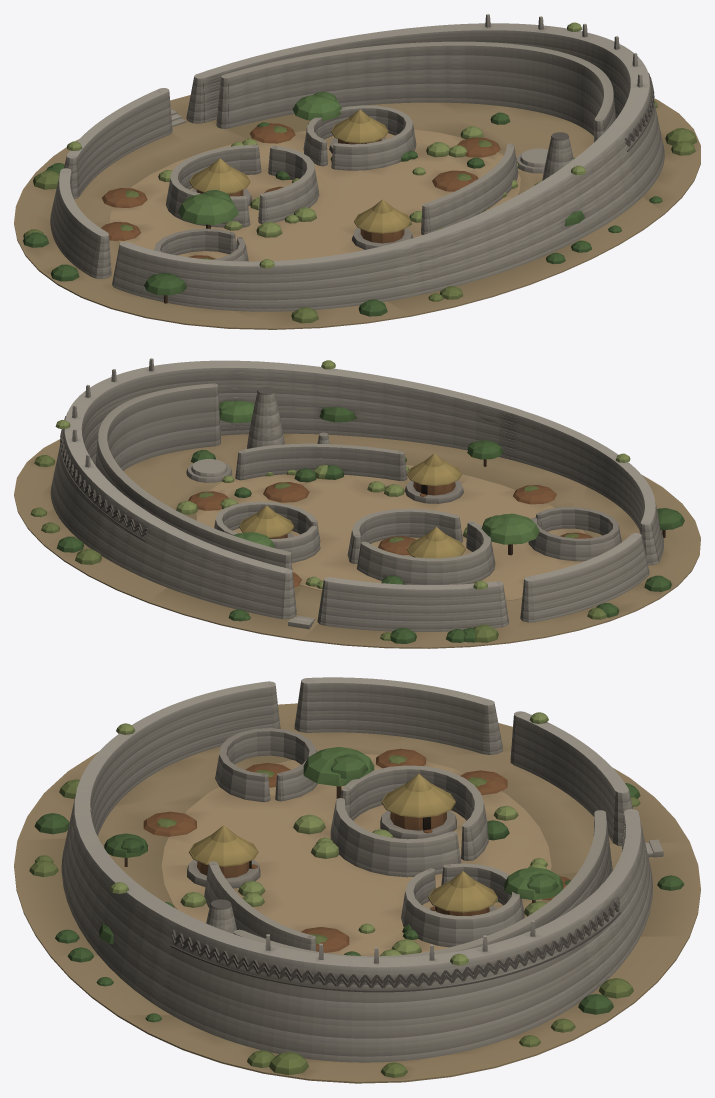
The model's file is great-enclosure-1500.glb.
3 views of the same model, one above another, from view 1: azimuth 30°, elevation 25°; view 2: azimuth 150°, elevation 25°; view 3: azimuth 270°, elevation 25° (orthographic). The views are drawn at different scales.
Visible parts, largest first — view 1: p1_outer-wall, p0_ground, p2_inner-walls, p4_overgrowth, p3_houses; view 2: p1_outer-wall, p0_ground, p2_inner-walls, p4_overgrowth, p3_houses; view 3: p1_outer-wall, p0_ground, p2_inner-walls, p4_overgrowth, p3_houses.
Boxes of the visible parts, left/top/right/bottom form: p1_outer-wall: left=50, top=14, right=664, bottom=311; p0_ground: left=14, top=95, right=700, bottom=329; p2_inner-walls: left=154, top=41, right=615, bottom=261; p4_overgrowth: left=23, top=22, right=697, bottom=323; p3_houses: left=101, top=109, right=500, bottom=259; p1_outer-wall: left=50, top=358, right=663, bottom=631; p0_ground: left=14, top=433, right=700, bottom=648; p2_inner-walls: left=95, top=383, right=621, bottom=584; p4_overgrowth: left=30, top=360, right=684, bottom=643; p3_houses: left=188, top=453, right=592, bottom=587; p1_outer-wall: left=61, top=677, right=663, bottom=1062; p0_ground: left=14, top=703, right=700, bottom=1083; p2_inner-walls: left=204, top=728, right=612, bottom=957; p4_overgrowth: left=29, top=712, right=684, bottom=1077; p3_houses: left=143, top=748, right=570, bottom=952.
Bounding box in the file's own units: 101 × 13 × 77.49.
